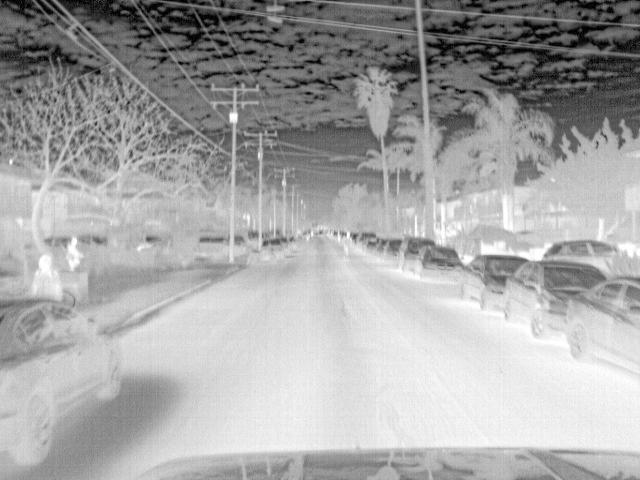car: (1, 296, 126, 476), (561, 274, 639, 378), (500, 262, 607, 336), (461, 255, 530, 312), (545, 237, 626, 274), (416, 248, 461, 280), (399, 234, 437, 269), (384, 238, 405, 260), (356, 230, 379, 246), (364, 239, 381, 255)
person: (27, 254, 66, 299), (60, 238, 88, 270), (341, 229, 355, 257)
